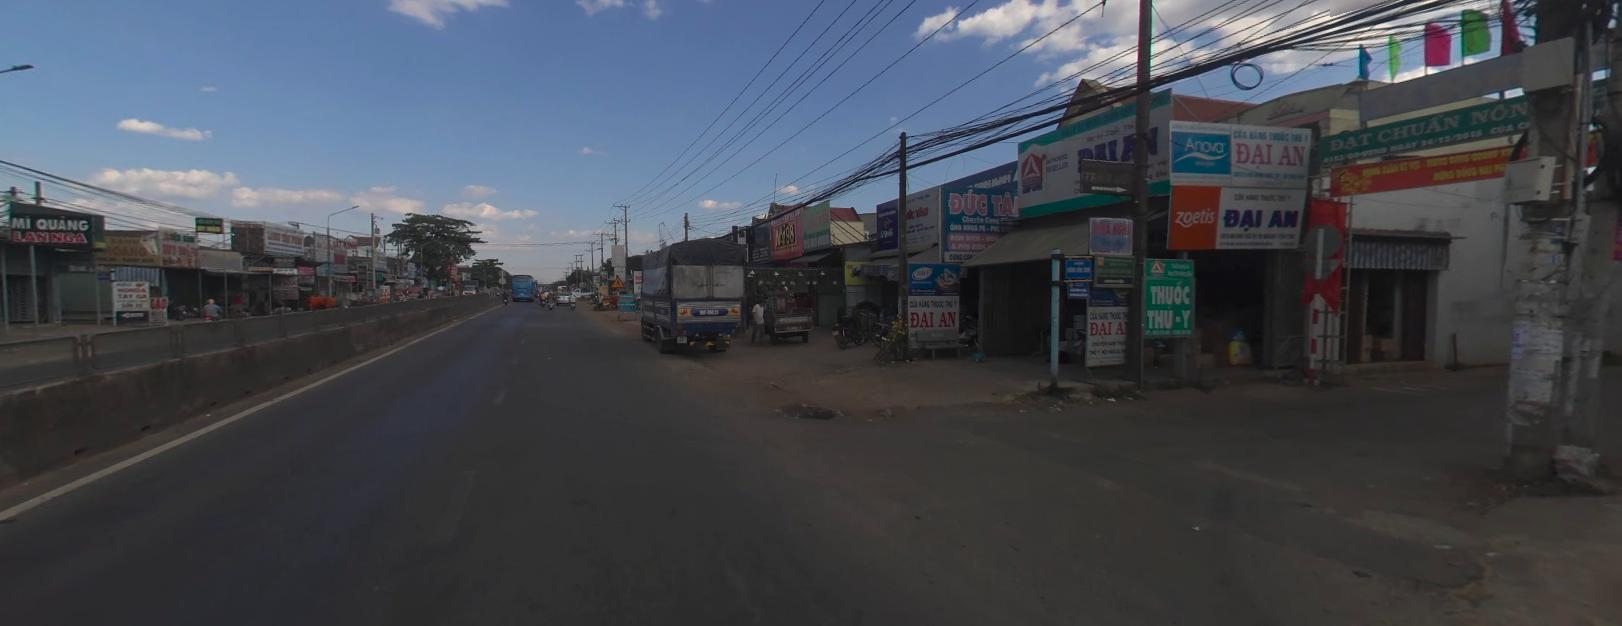Nguy hiem: (611, 274, 623, 286), (610, 274, 623, 285)
